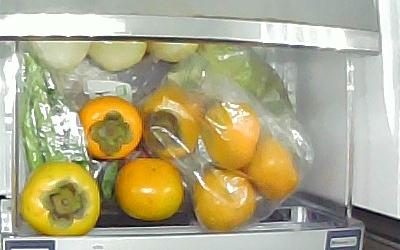persimmon: (21, 161, 100, 236), (116, 158, 185, 220), (78, 96, 142, 161)
persimmon_vinyl: (140, 88, 199, 158), (192, 169, 256, 232), (202, 101, 260, 168), (250, 136, 300, 200)
